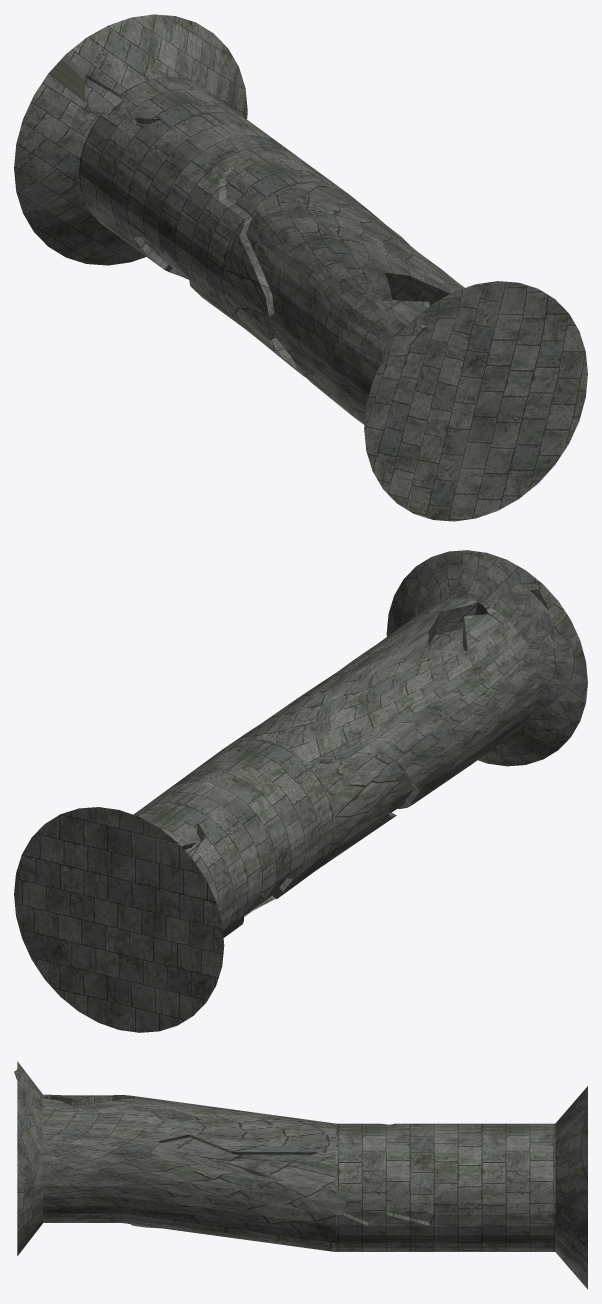
File: pillarModel3.fbx
3 views of the same model, one above another, from view 1: azimuth 30°, elevation 25°; view 2: azimuth 150°, elevation 25°; view 3: azimuth 270°, elevation 25° (orthographic). The views are drawn at different scales.
Visible parts, largest first — view 1: Cylinder; view 2: Cylinder; view 3: Cylinder.
Part boxes in pixels (x1,y1,x2,y2): Cylinder: [14, 14, 587, 521]; Cylinder: [14, 550, 587, 1032]; Cylinder: [14, 1061, 587, 1289].
Size of the model in its own units: 12.55 by 12.04 by 31.61.
Materials: 1 (1 with a texture image).
